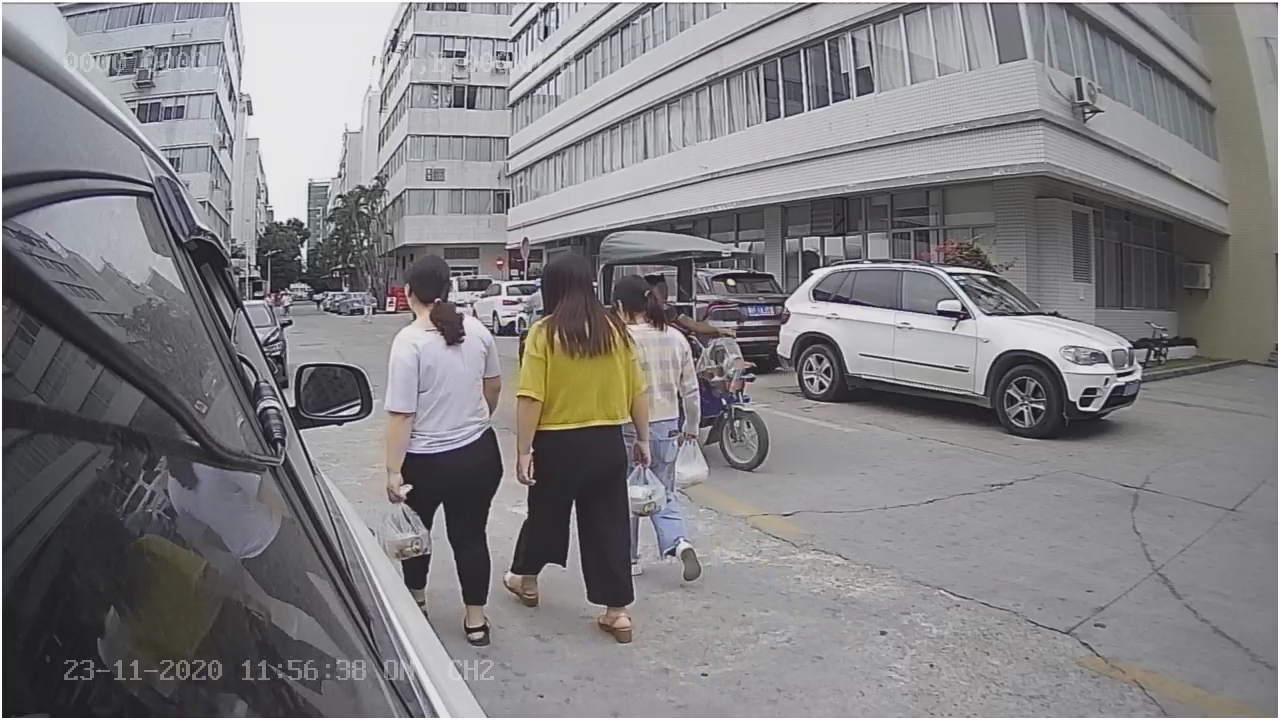person: (504, 249, 644, 654), (373, 252, 497, 651)
